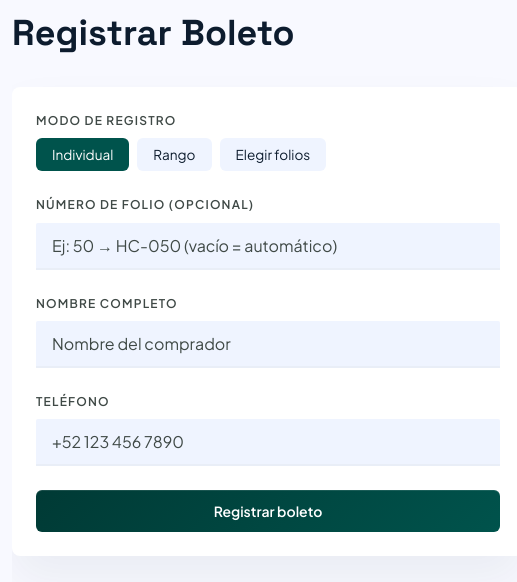
TicketNewPage › disables submit button while loading
Step 1. Type "Test" into the field labelled "Nombre completo" → (268, 344), box 36,321 -> 500,368
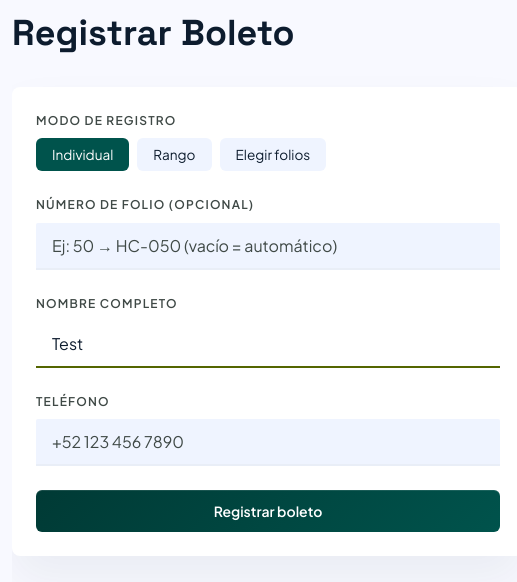
Step 2. Type "123" into the field labelled "Teléfono" → (268, 442), box 36,419 -> 500,466
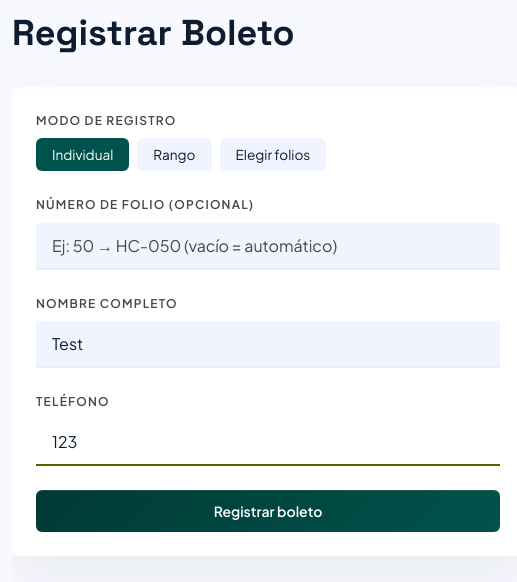
Step 3. Click the button "Registrar boleto" → (268, 511), box 36,490 -> 500,532
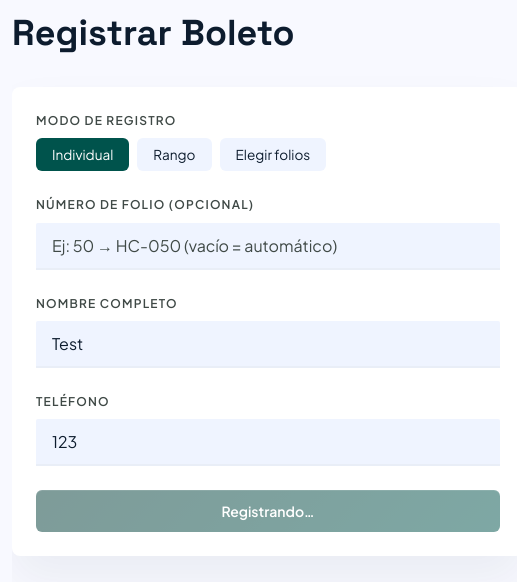
Expected: the button "Registrando…" is disabled, 36,490 -> 500,532
